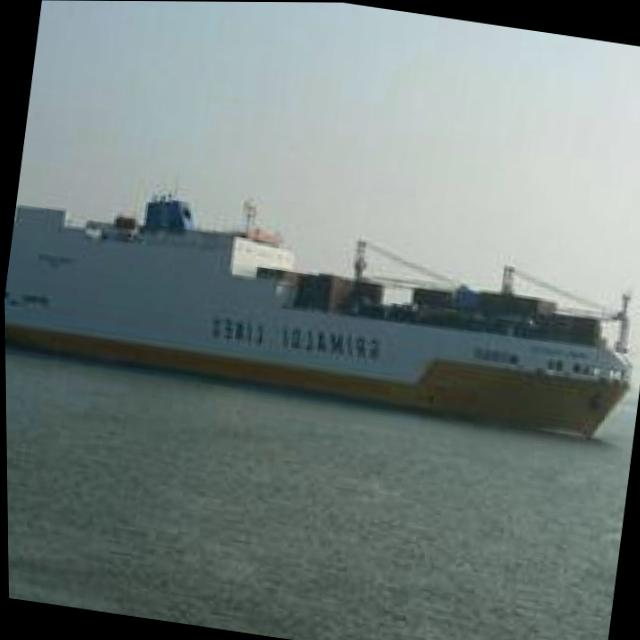ship2: (3, 196, 632, 442)
